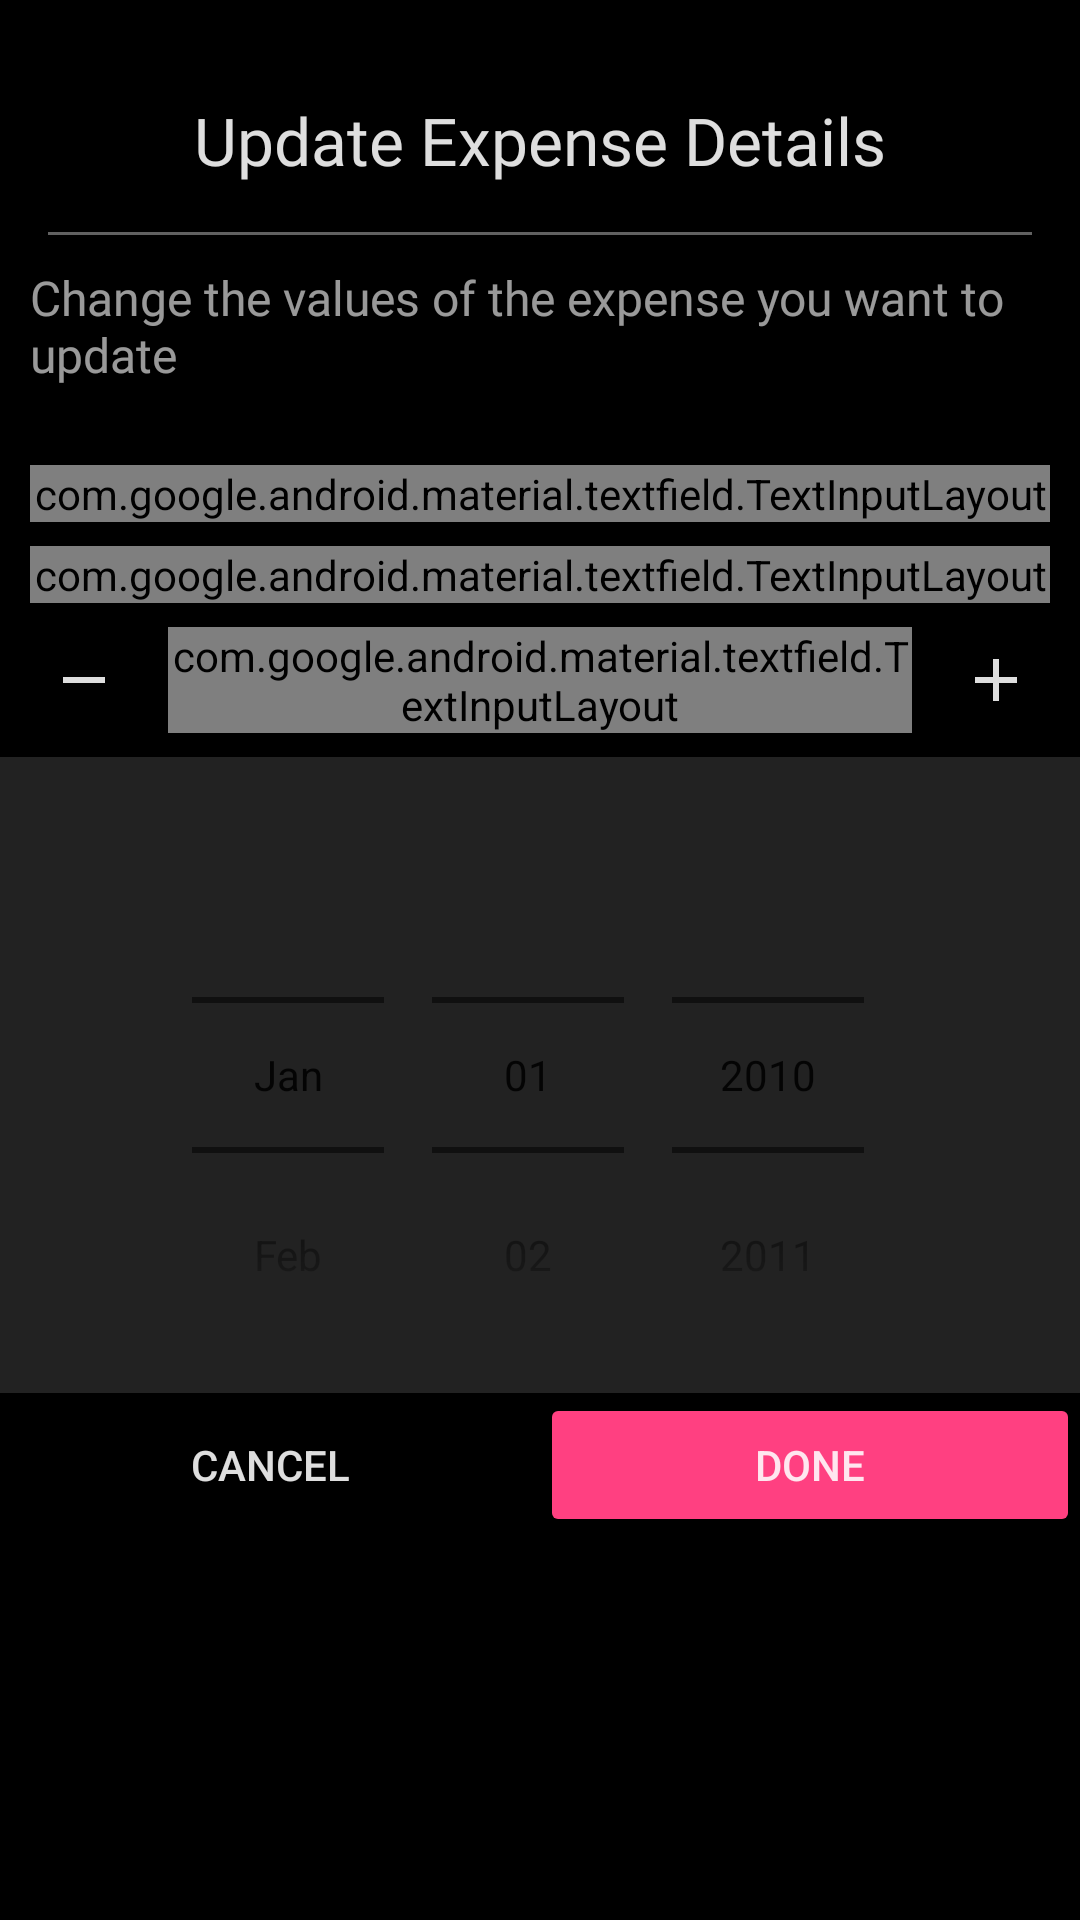

Named icons in this screenshot (1080w x 1920h) and their bounding boxes, (x1, y1, x2, y2):
add: (975, 659, 1017, 701)
